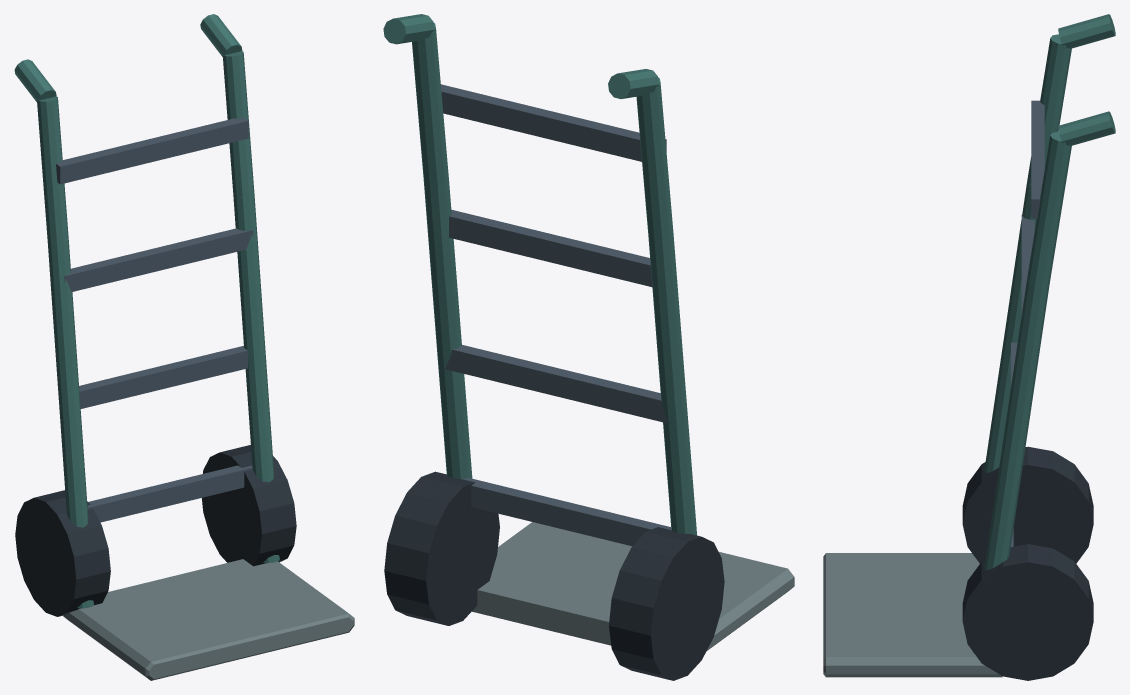
File: C-04_handtruck.glb
3 views of the same model, side by side, from view 1: azimuth 30°, elevation 25°; view 2: azimuth 150°, elevation 25°; view 3: azimuth 270°, elevation 25° (orthographic). The views are drawn at different scales.
Parts seen in each view (by area): view 1: C-04_handtruck; view 2: C-04_handtruck; view 3: C-04_handtruck.
Boxes of the visible parts, left/top/right/bottom form: C-04_handtruck: left=14, top=14, right=354, bottom=680; C-04_handtruck: left=383, top=14, right=794, bottom=680; C-04_handtruck: left=823, top=14, right=1115, bottom=680.
Bounding box in the file's own units: 0.496 × 1.12 × 0.531.
